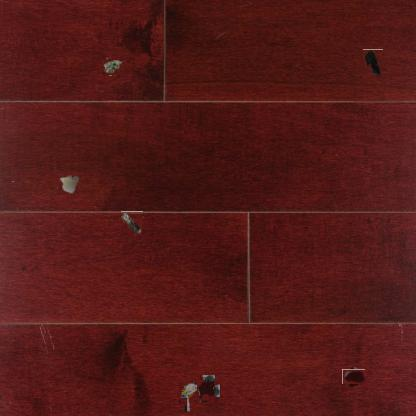dirty: (178, 382, 200, 412), (364, 49, 384, 78), (121, 211, 144, 236), (57, 172, 79, 194), (102, 58, 121, 76)
liquid: (194, 376, 218, 400), (344, 367, 363, 386)
